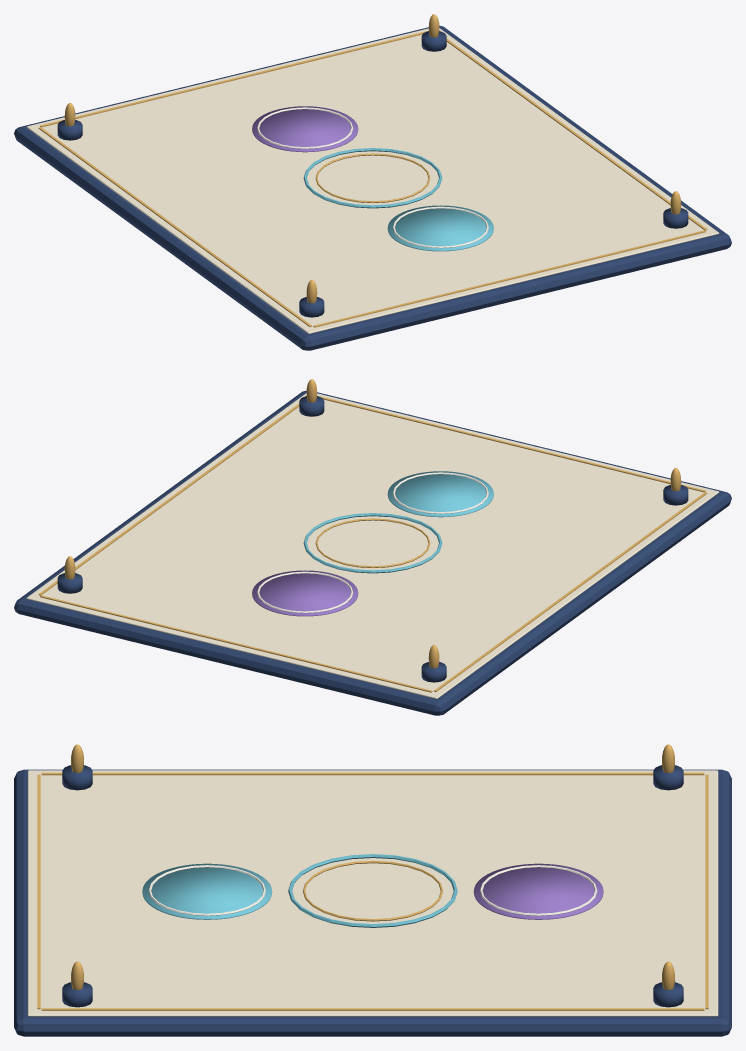
The model's file is arena.glb.
3 views of the same model, one above another, from view 1: azimuth 30°, elevation 25°; view 2: azimuth 150°, elevation 25°; view 3: azimuth 270°, elevation 25° (orthographic). The views are drawn at different scales.
Parts seen in each view (by area): view 1: Phantom 3 on 3 battle arena; view 2: Phantom 3 on 3 battle arena; view 3: Phantom 3 on 3 battle arena.
Boxes of the visible parts, left/top/right/bottom form: Phantom 3 on 3 battle arena: left=14, top=14, right=731, bottom=350; Phantom 3 on 3 battle arena: left=14, top=379, right=731, bottom=715; Phantom 3 on 3 battle arena: left=14, top=744, right=731, bottom=1036.
Size of the model in its own units: 22 by 2.35 by 26.
